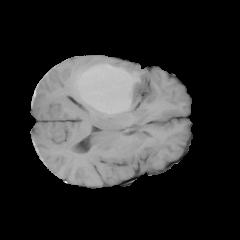glioma: (75, 62, 151, 115)
